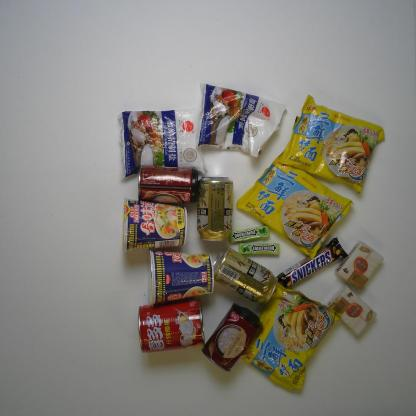Alcohol: (212, 246, 279, 306), (194, 173, 236, 242)
Canned Food: (126, 296, 206, 353), (201, 301, 263, 373), (136, 162, 198, 206)
Chocolate: (274, 233, 346, 297)
Gum: (227, 223, 275, 243), (239, 242, 280, 256)
Instant Noodles: (236, 149, 356, 261), (241, 282, 344, 391), (276, 94, 386, 194), (114, 197, 190, 251), (147, 249, 215, 308)
Seasoner: (116, 106, 208, 180), (196, 82, 281, 159)
Tissue: (338, 236, 386, 294), (327, 284, 377, 338)
